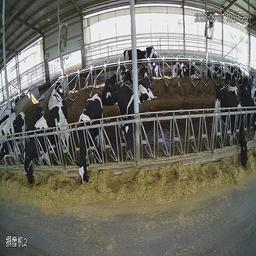cow: (21, 97, 70, 200), (216, 73, 253, 178), (74, 90, 108, 197), (117, 78, 143, 151), (137, 59, 162, 106), (45, 73, 73, 108), (124, 34, 150, 70), (100, 68, 123, 104), (228, 57, 245, 99), (203, 52, 222, 83), (175, 50, 194, 77)
